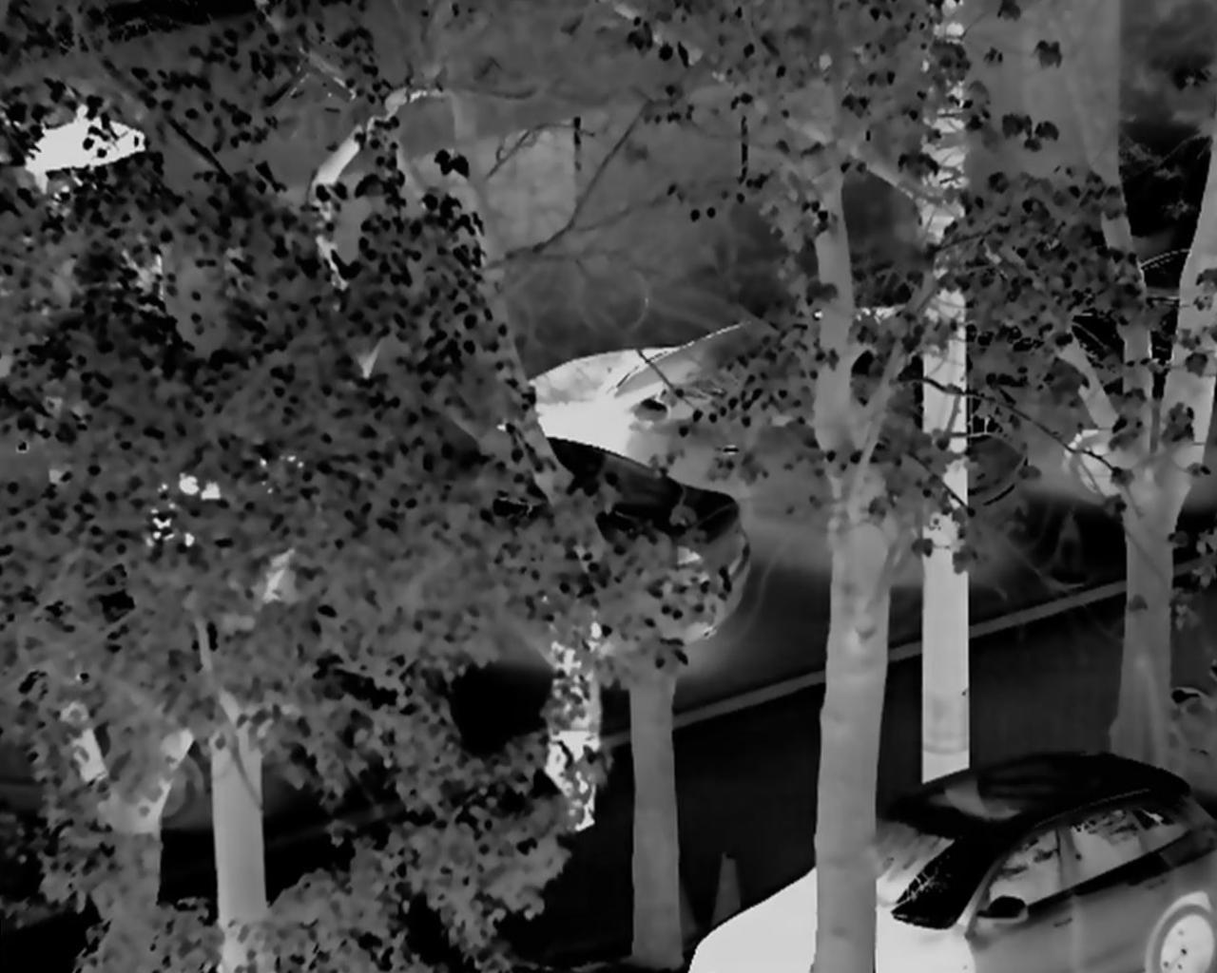person: (532, 607, 603, 842)
